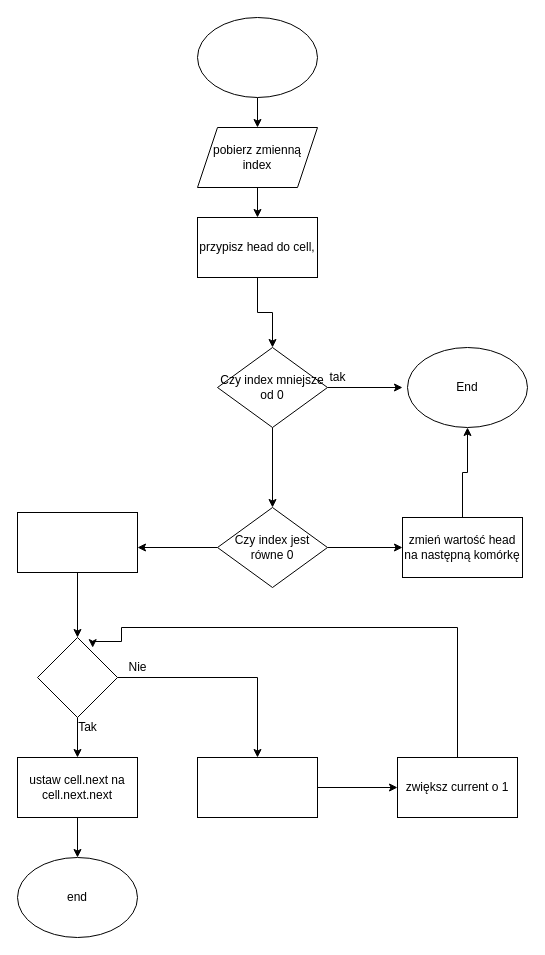
This 545x955 diagram has some shape labels left out. Each missing label, with the box of its shape:
Czy currnet jest równe index?: (36, 636, 118, 718)
przypisz następna komórkę po cell do cell: (196, 756, 318, 818)
Start: (196, 16, 318, 98)
stwórz zmienną current=0: (16, 512, 138, 572)
